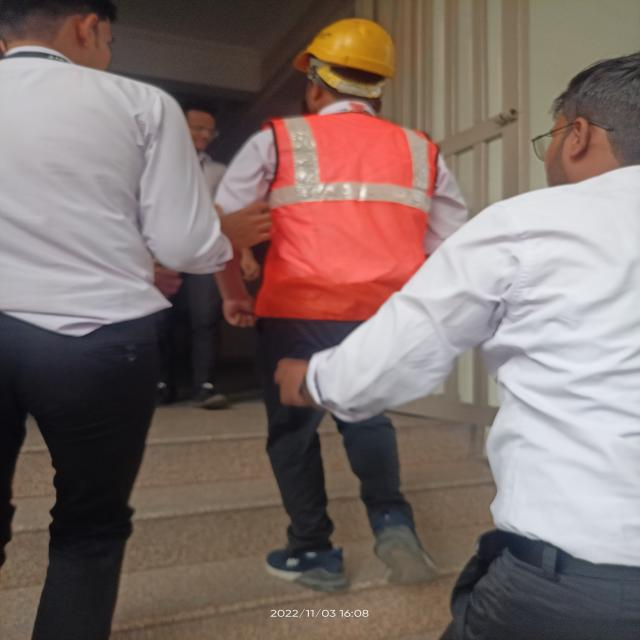safe: (225, 23, 446, 536)
unsafe: (0, 7, 206, 640), (419, 55, 639, 640)
